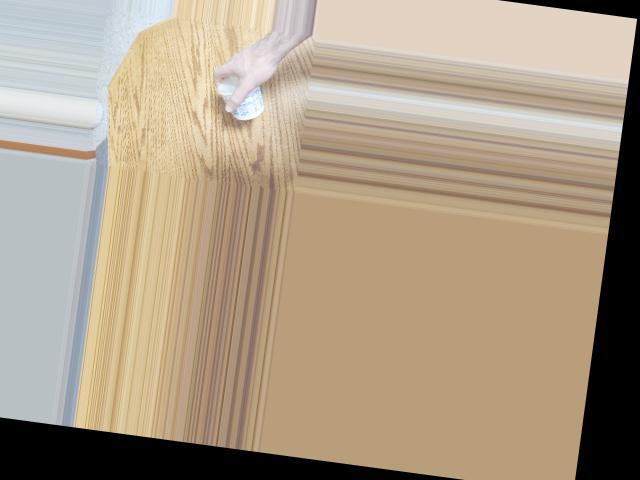cotage: (214, 69, 269, 120)
